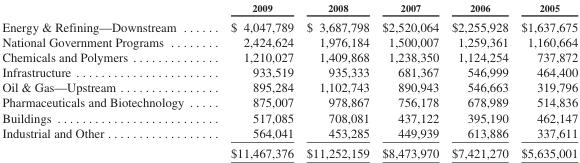table: (1, 1, 577, 159)
table column: (1, 1, 206, 159), (206, 1, 299, 159), (299, 1, 375, 159), (444, 1, 514, 159), (375, 1, 444, 159), (514, 1, 577, 159)
table column header: (1, 1, 577, 16)
table row: (1, 16, 577, 34), (1, 124, 577, 142), (1, 142, 577, 159), (1, 1, 577, 16), (1, 34, 577, 49), (1, 49, 577, 64), (1, 64, 577, 79), (1, 79, 577, 94), (1, 94, 577, 109), (1, 109, 577, 124)
